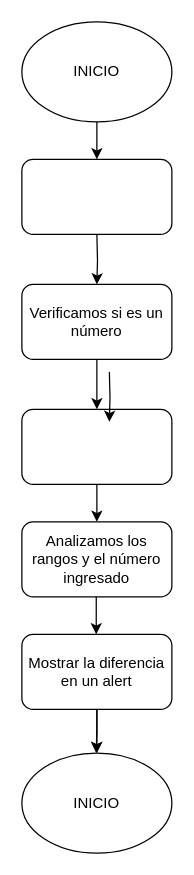
Image size: 194x875. Some labels were removed from this diagram. The shapes that lost their labels are listed below. From the top down, each one's centre as x and y in pixels, then its label:
At (x=96, y=196): "Pedimos un número".
At (x=96, y=446): "Verificar si está entre 0 y 10".
